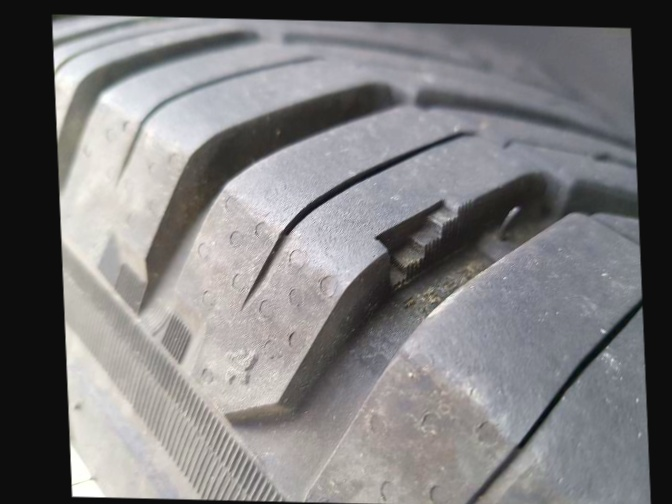temoin:90: (366, 189, 487, 301)
